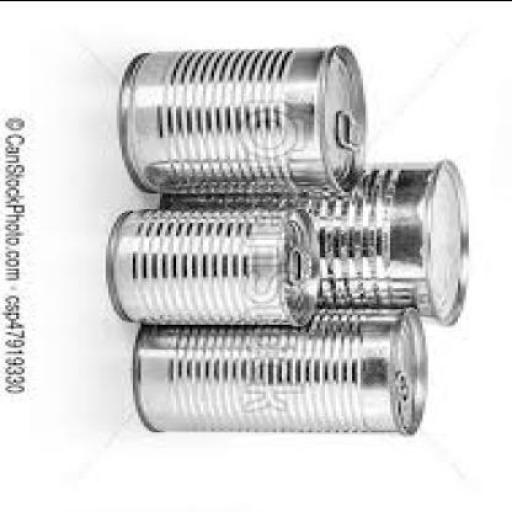metal: (154, 156, 469, 326), (133, 304, 431, 433), (119, 43, 368, 190), (108, 203, 322, 323)
